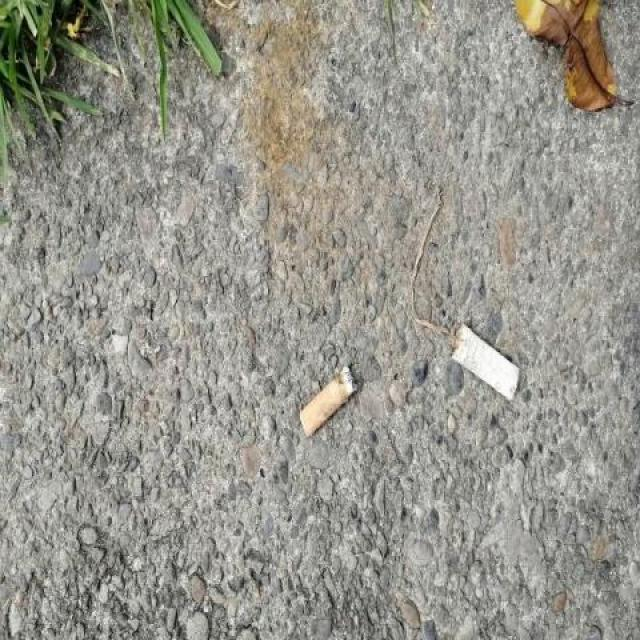non-organic waste: (440, 318, 524, 406), (294, 358, 362, 441)
